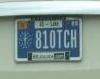0: (49, 30, 56, 48)
1: (42, 30, 49, 49)
8: (35, 30, 42, 49)
C: (64, 29, 70, 48)
H: (70, 29, 77, 48)
T: (57, 29, 63, 48)
